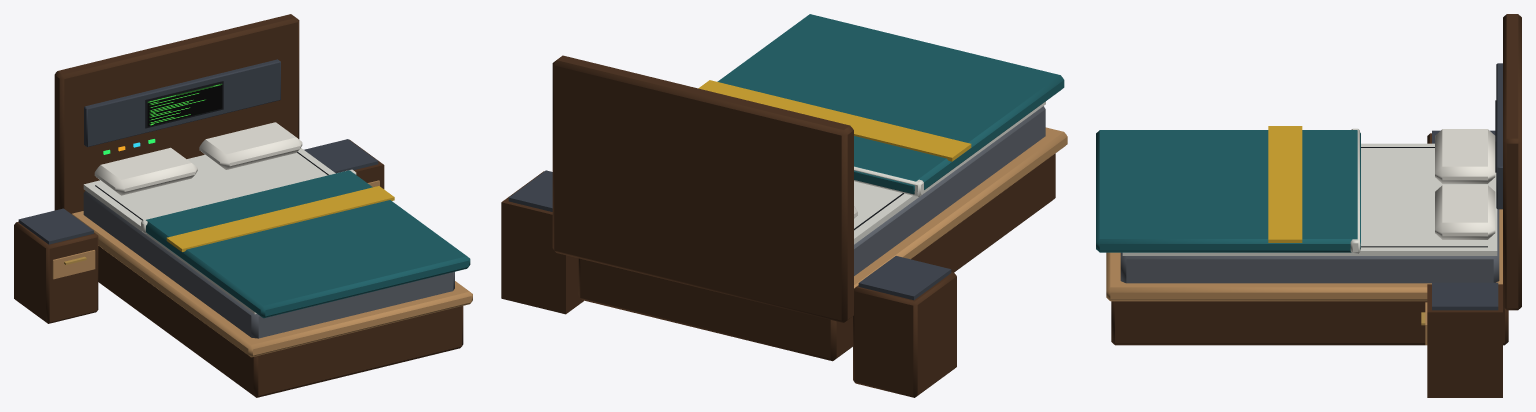
File: bed_officer_bed.glb
3 renders of one model, left to right at view 1: azimuth 30°, elevation 25°; view 2: azimuth 150°, elevation 25°; view 3: azimuth 270°, elevation 25°, orthographic. The views are drawn at different scales.
Parts seen in each view (by area): view 1: bed_officer_bed; view 2: bed_officer_bed; view 3: bed_officer_bed.
Part boxes in pixels (<box>): bed_officer_bed: <box>14,14,472,397</box>; bed_officer_bed: <box>501,14,1067,397</box>; bed_officer_bed: <box>1096,14,1521,397</box>.
Size of the model in its own units: 2.25 by 1.35 by 2.25.
Materials: 15 (1 with a texture image).
